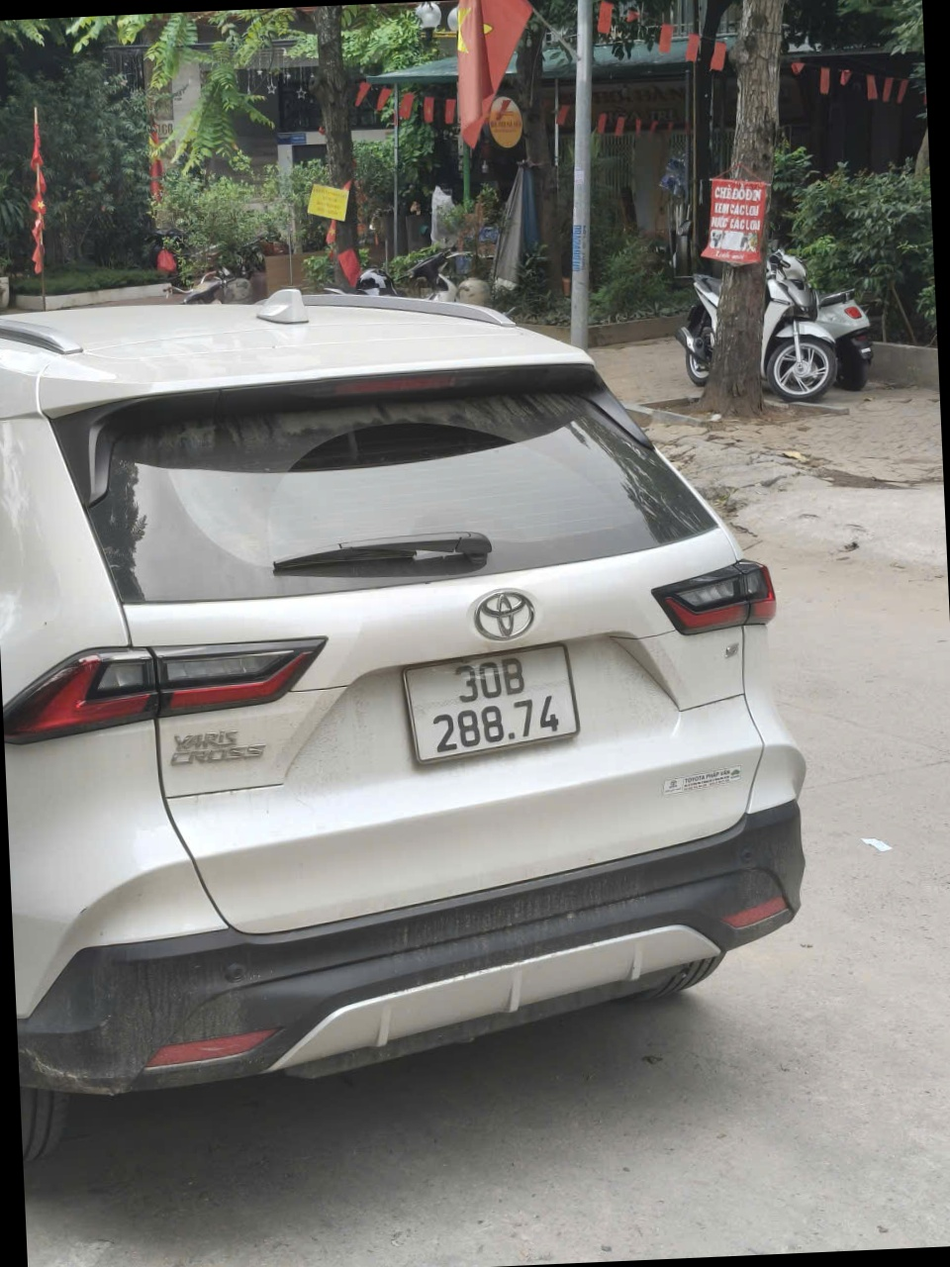plate: (160, 726, 271, 769)
